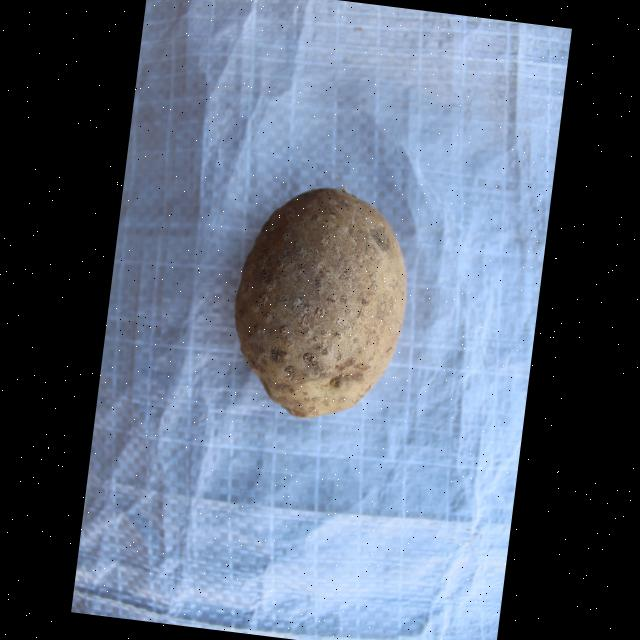Diseased-fungal potato: (217, 176, 419, 432)
